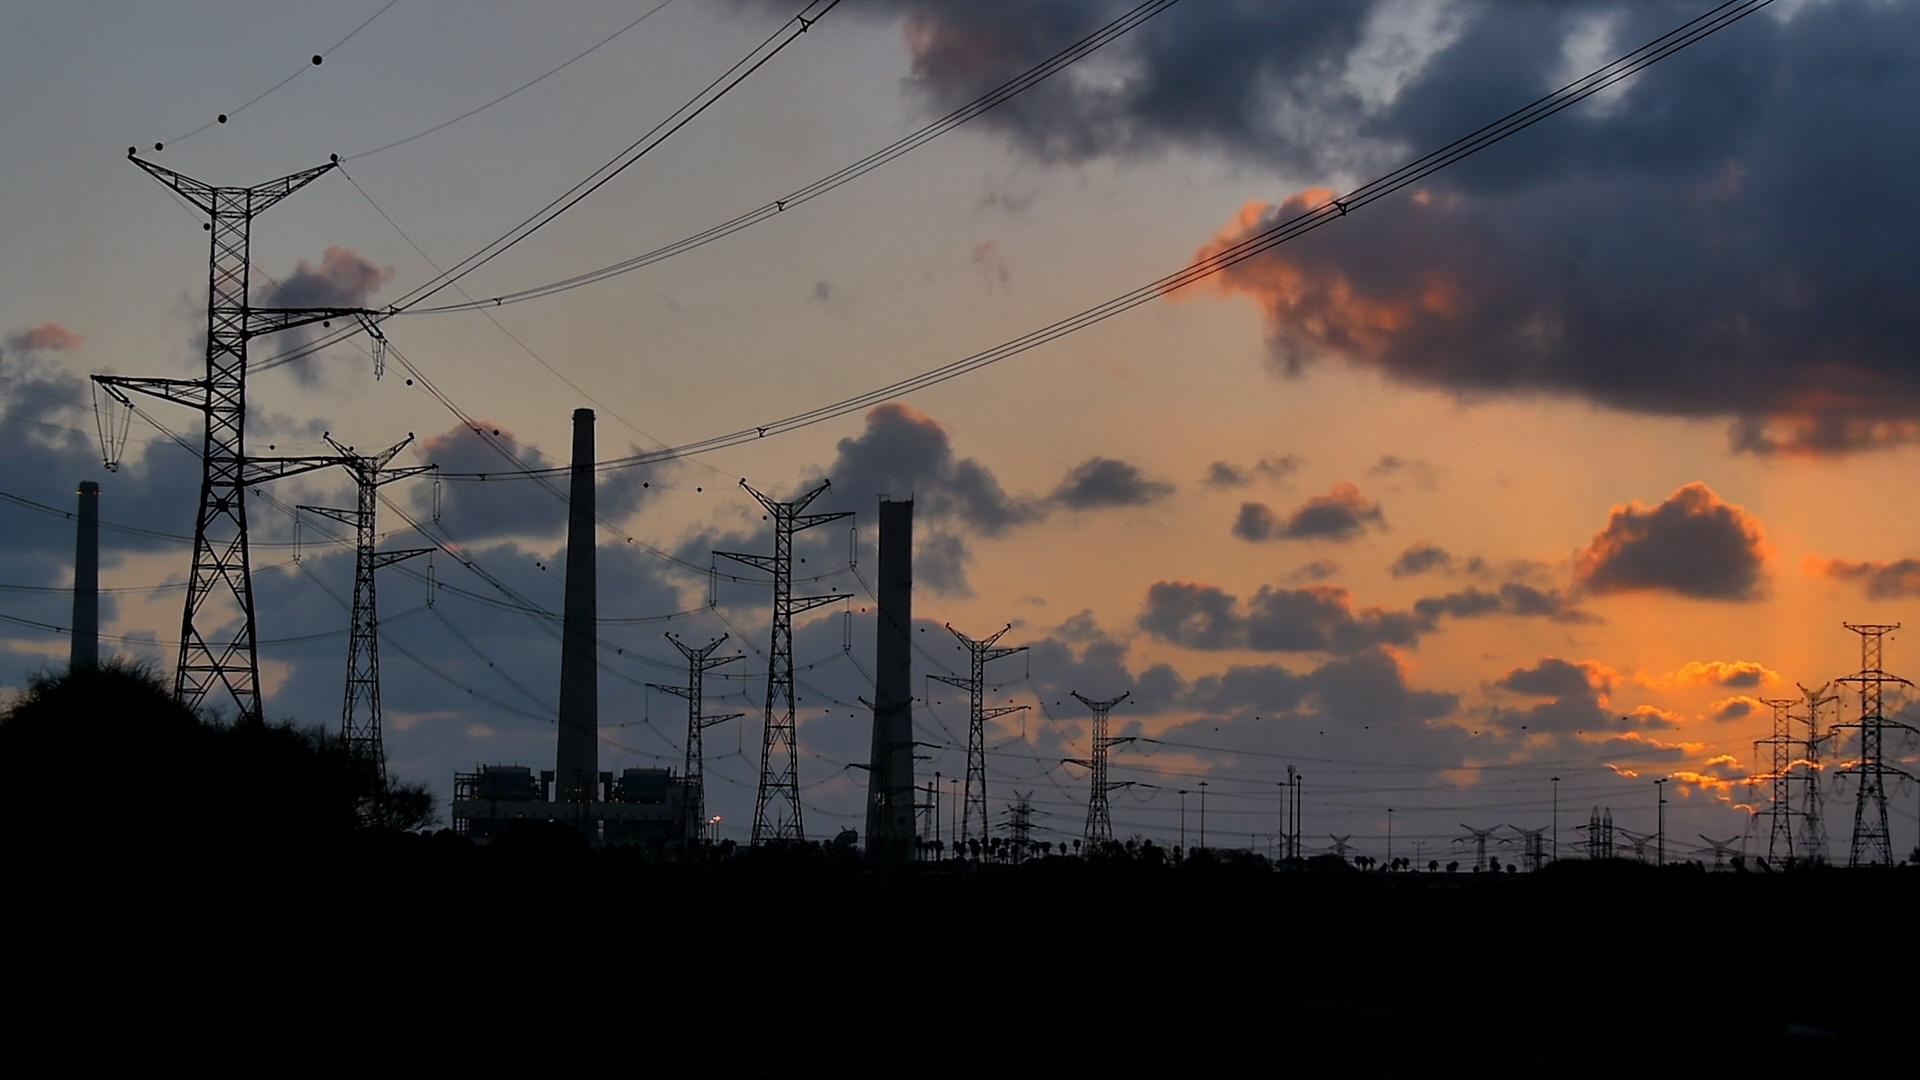cable tower: (91, 121, 363, 848), (696, 454, 868, 876), (290, 411, 443, 851), (913, 592, 1044, 873), (651, 620, 752, 880), (1830, 608, 1920, 872), (1054, 659, 1154, 877), (1741, 684, 1830, 877), (847, 694, 919, 862), (1787, 679, 1840, 870), (1000, 789, 1038, 868), (1456, 822, 1505, 876), (1505, 822, 1551, 872), (1692, 831, 1746, 868), (1615, 827, 1662, 860), (1324, 829, 1356, 862), (1582, 804, 1602, 857), (1276, 829, 1305, 862), (1600, 806, 1615, 858)
